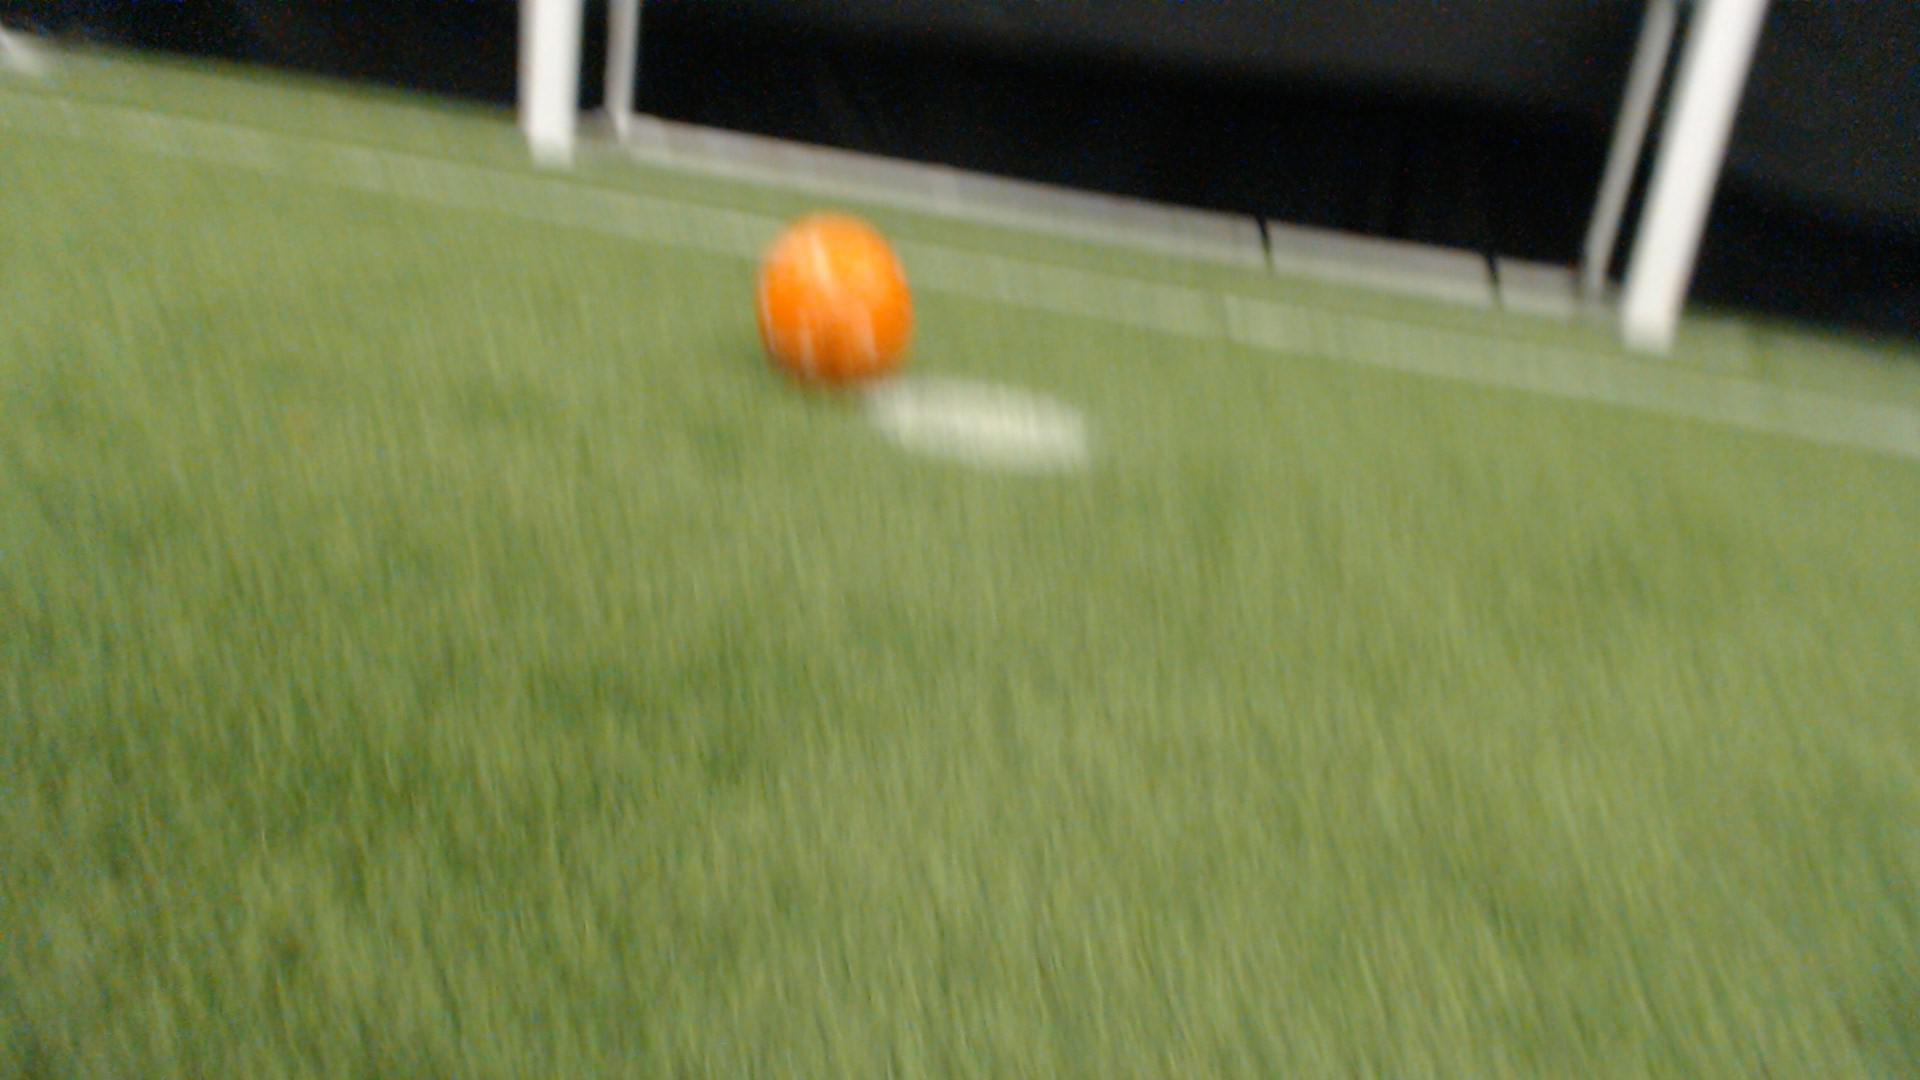bola: (728, 199, 956, 409)
